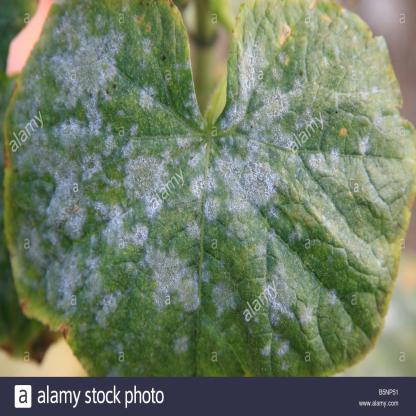squash powdery mildew leaf: (3, 1, 416, 376)
